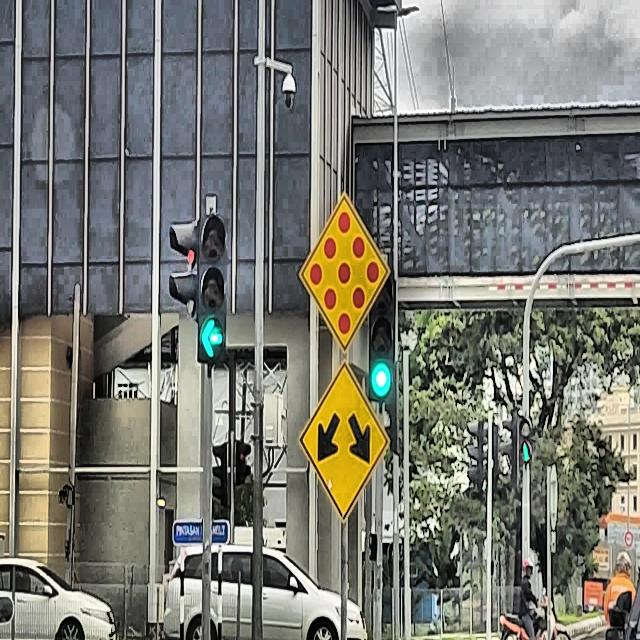green: (196, 212, 226, 364), (368, 270, 394, 401)
